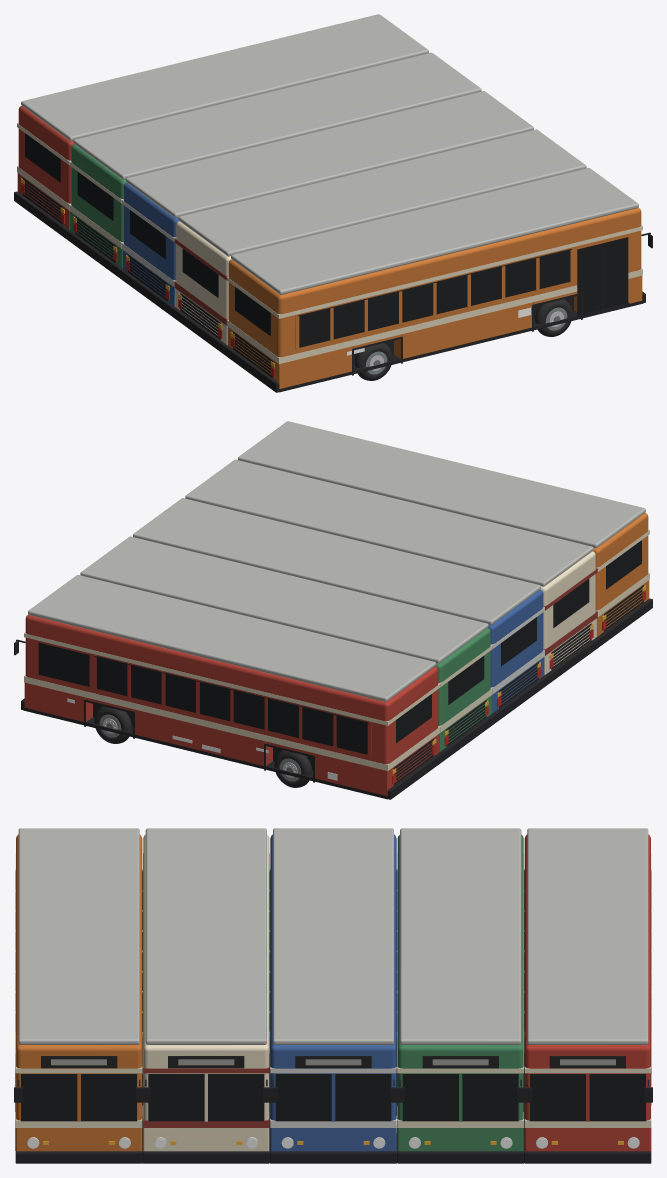
Rendered from bus_row.glb.
The picture shows the model from 3 angles, top to bottom: view 1: azimuth 30°, elevation 25°; view 2: azimuth 150°, elevation 25°; view 3: azimuth 270°, elevation 25°; orthographic projection. The views are drawn at different scales.
Visible parts, largest first — view 1: SM_bus_row; view 2: SM_bus_row; view 3: SM_bus_row.
Boxes of the visible parts, x1,y1,x2,y2 form: SM_bus_row: [14, 14, 652, 392]; SM_bus_row: [14, 421, 652, 799]; SM_bus_row: [14, 828, 652, 1163].
Size of the model in its own units: 10.35 by 3 by 12.56.
